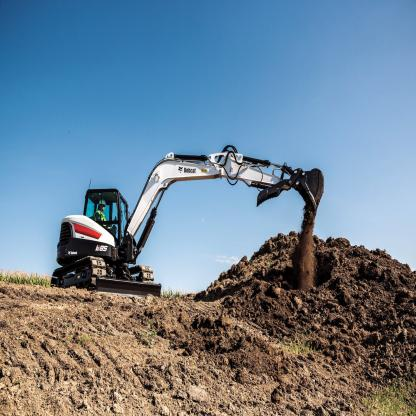excavator: (52, 115, 331, 318)
